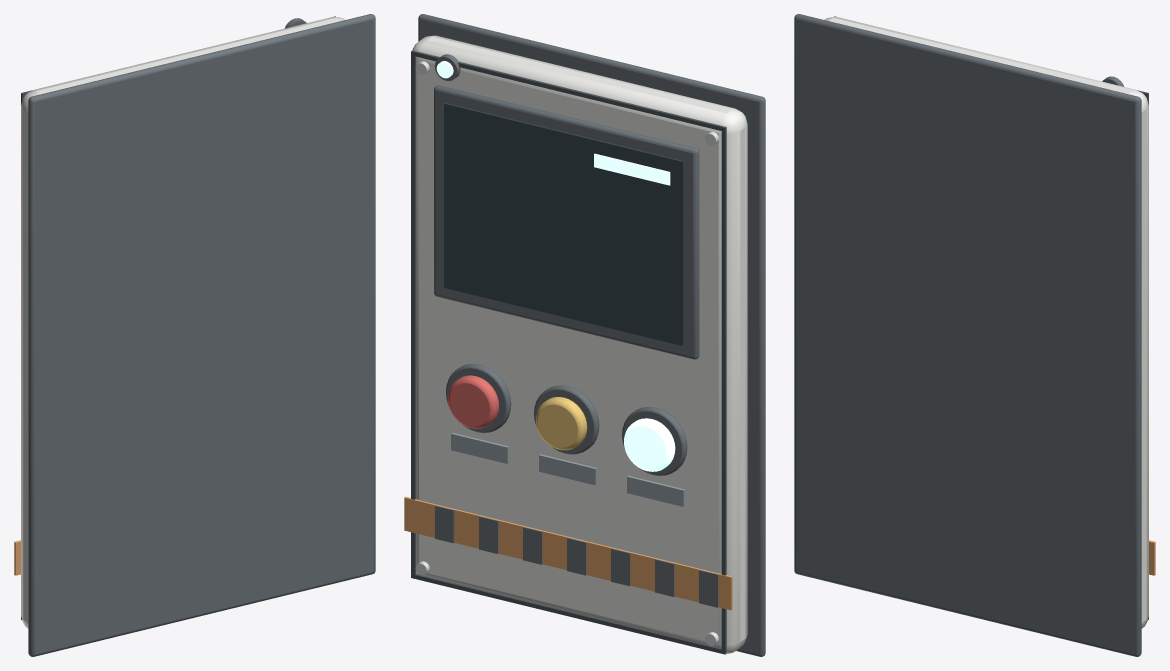
The model's file is airlock_control_panel.glb.
3 views of the same model, side by side, from view 1: azimuth 30°, elevation 25°; view 2: azimuth 150°, elevation 25°; view 3: azimuth 330°, elevation 25° (orthographic).
Parts seen in each view (by area): view 1: panel_backplate_graphite, panel_body_white_painted; view 2: panel_body_white_painted, display_screen_glass_dark_glass, panel_backplate_graphite, screen_bezel_graphite, panel_seam_black_rubber, hazard_band_orange, hazard_stripes_graphite, button_seal_screen_green, button_stop_red_cross, button_cycle_amber, button_cycle_ring_graphite, button_seal_ring_graphite (+6 smaller); view 3: panel_backplate_graphite, panel_body_white_painted.
Part boxes in pixels (bbox=[...]): panel_backplate_graphite: bbox=[28, 14, 375, 656]; panel_body_white_painted: bbox=[21, 17, 345, 628]; panel_body_white_painted: bbox=[412, 35, 747, 653]; display_screen_glass_dark_glass: bbox=[444, 103, 683, 345]; panel_backplate_graphite: bbox=[418, 14, 765, 656]; screen_bezel_graphite: bbox=[434, 85, 699, 359]; panel_seam_black_rubber: bbox=[411, 50, 726, 654]; hazard_band_orange: bbox=[404, 496, 732, 610]; hazard_stripes_graphite: bbox=[435, 505, 718, 607]; button_seal_screen_green: bbox=[624, 418, 675, 471]; button_stop_red_cross: bbox=[447, 375, 499, 428]; button_cycle_amber: bbox=[535, 397, 587, 450]; button_cycle_ring_graphite: bbox=[534, 385, 599, 454]; button_seal_ring_graphite: bbox=[622, 407, 687, 475]; panel_backplate_graphite: bbox=[794, 14, 1141, 656]; panel_body_white_painted: bbox=[824, 17, 1148, 628].
Bounding box in the file's own units: 0.55 × 0.85 × 0.1.
